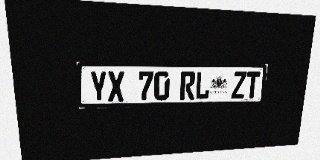0: (154, 71, 170, 101)
7: (138, 71, 154, 101)
L: (195, 71, 211, 100)
R: (180, 71, 196, 100)
T: (245, 71, 260, 98)
X: (107, 71, 125, 102)
Y: (89, 71, 108, 102)
Z: (231, 71, 247, 99)
